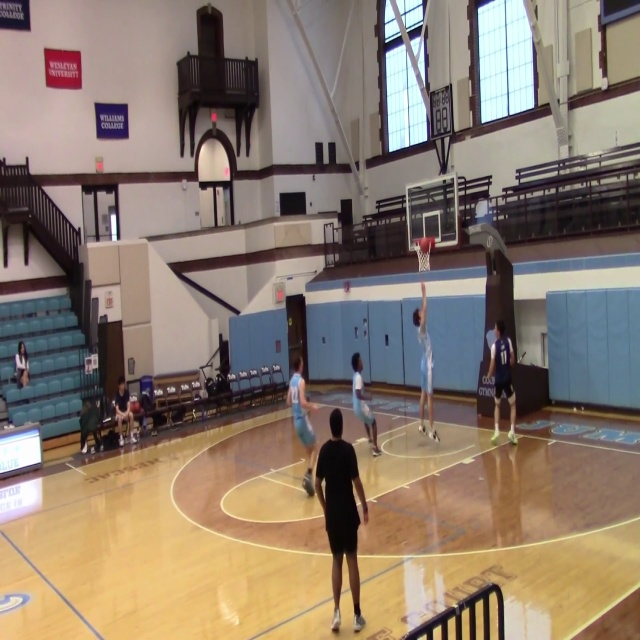Basketball: (417, 236, 434, 253), (129, 401, 141, 413), (413, 309, 421, 326)
